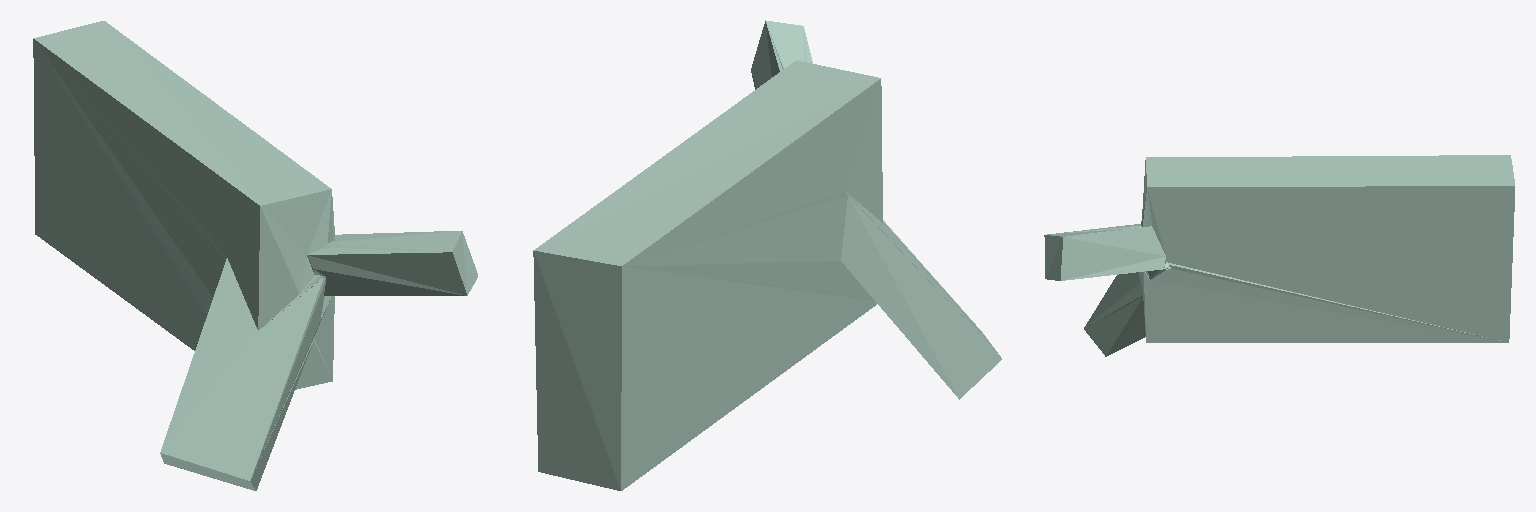
robot.urdf — blob131:

<robot name="blob131">
  <link name="random_obj_131">
    <contact>
      <lateral_friction value="1.0"/>
      <rolling_friction value="0.0"/>
      <inertia_scaling value="3.0"/>
      <contact_cfm value="0.0"/>
      <contact_erp value="1.0"/>
    </contact>
    <inertial>
      <origin rpy="0 0 0" xyz="0 0 0"/>
      <mass value="0.1148"/>
      <inertia ixx="1" ixy="0" ixz="0" iyy="1" iyz="0" izz="0"/>
    </inertial>
    <visual>
      <origin rpy="0 0 0" xyz="0 0 0"/>
      <geometry>
        <mesh filename="131.obj" scale="0.0080 0.0080 0.0080"/>
      </geometry>
      <material name="blockmat">
        <color rgba="0.71 0.82 0.77 1"/>
      </material>
    </visual>
    <collision>
      <origin rpy="0 0 0" xyz="0 0 0"/>
      <geometry>
        <mesh filename="131_coll.obj" scale="0.0080 0.0080 0.0080"/>
      </geometry>
    </collision>
  </link>
</robot>

--- What the picture shows (computed from the rendered views, not written in the file) ---
3 views of the same robot in one strip: view 1: azimuth 30°, elevation 25°; view 2: azimuth 150°, elevation 25°; view 3: azimuth 270°, elevation 25° (orthographic).
Robot: blob131 — 1 links, 0 joints (none); root link random_obj_131; default pose: all joints at 0.
Links seen in each view (by area): view 1: random_obj_131; view 2: random_obj_131; view 3: random_obj_131.
Link boxes in pixels (x1,y1,x2,y2): random_obj_131: (33,21,477,490); random_obj_131: (533,20,1001,490); random_obj_131: (1044,155,1514,356).
Size in the robot's own frame: 0.0655 by 0.1232 by 0.0614 metres.
Meshes: 1 distinct files referenced, 1 mesh visuals loaded (1 OBJ).
